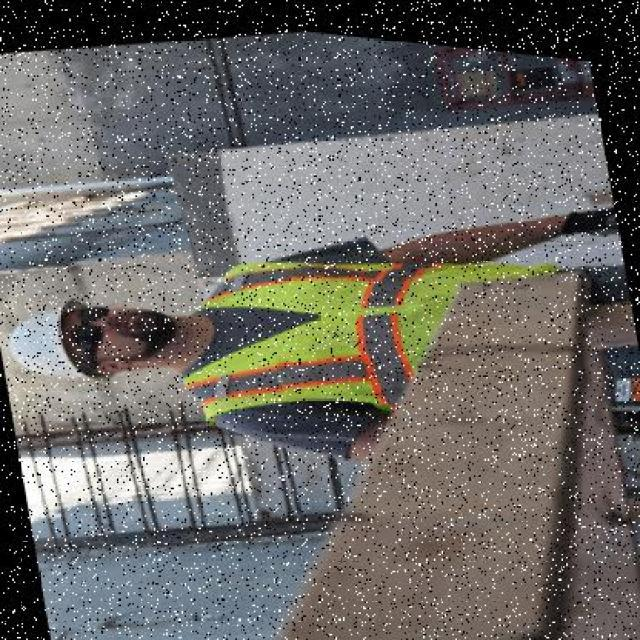helmet: (2, 280, 124, 396)
vest: (154, 199, 585, 442)
